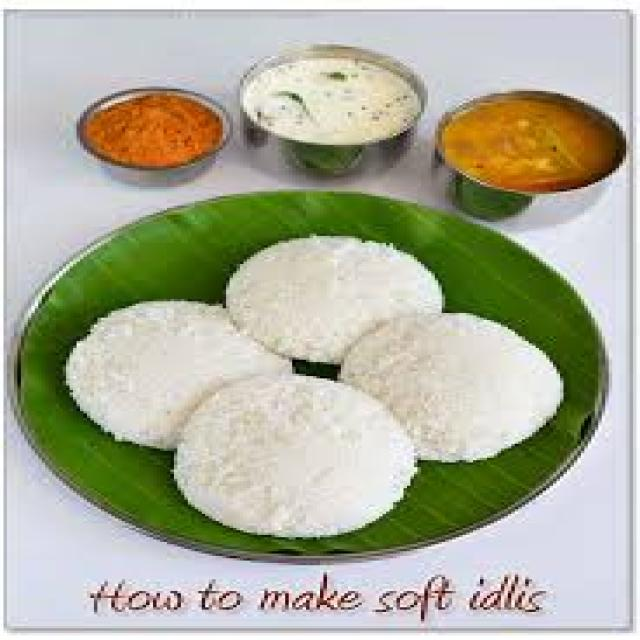IDLI: (182, 376, 420, 543), (344, 310, 574, 464), (72, 305, 276, 459), (229, 243, 444, 363)
